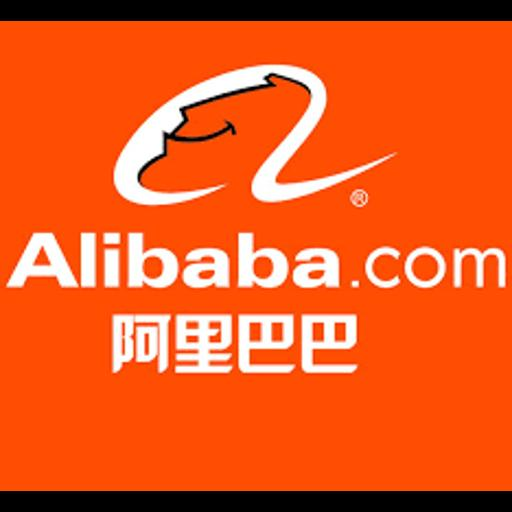Alibaba: (0, 21, 512, 491)
